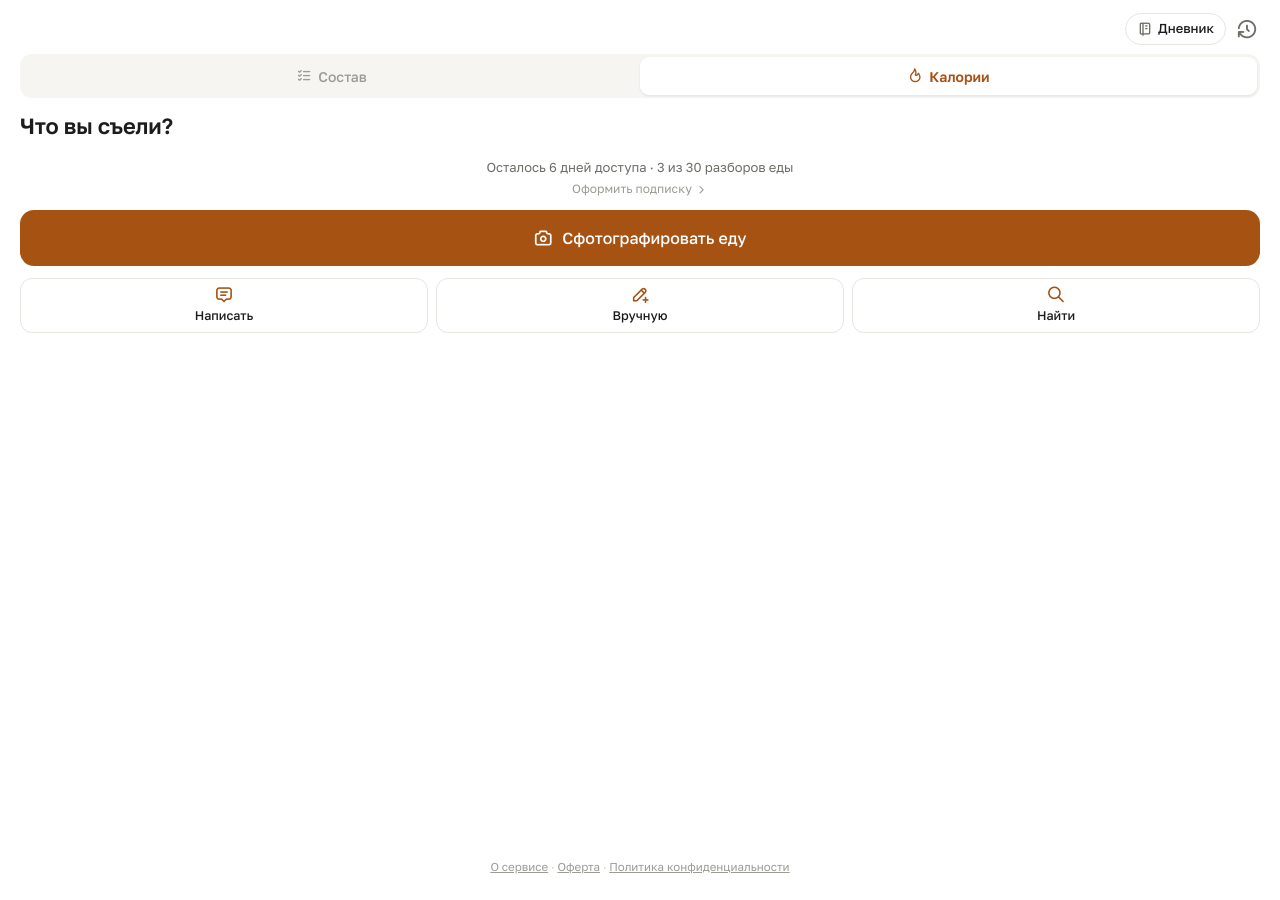
Test: остаток проверок на главном › на первом показе главного лишнего запроса /api/me нет — профиль пришёл с /auth
Click the button "Состав" at [332, 76], box [23,57,640,95]
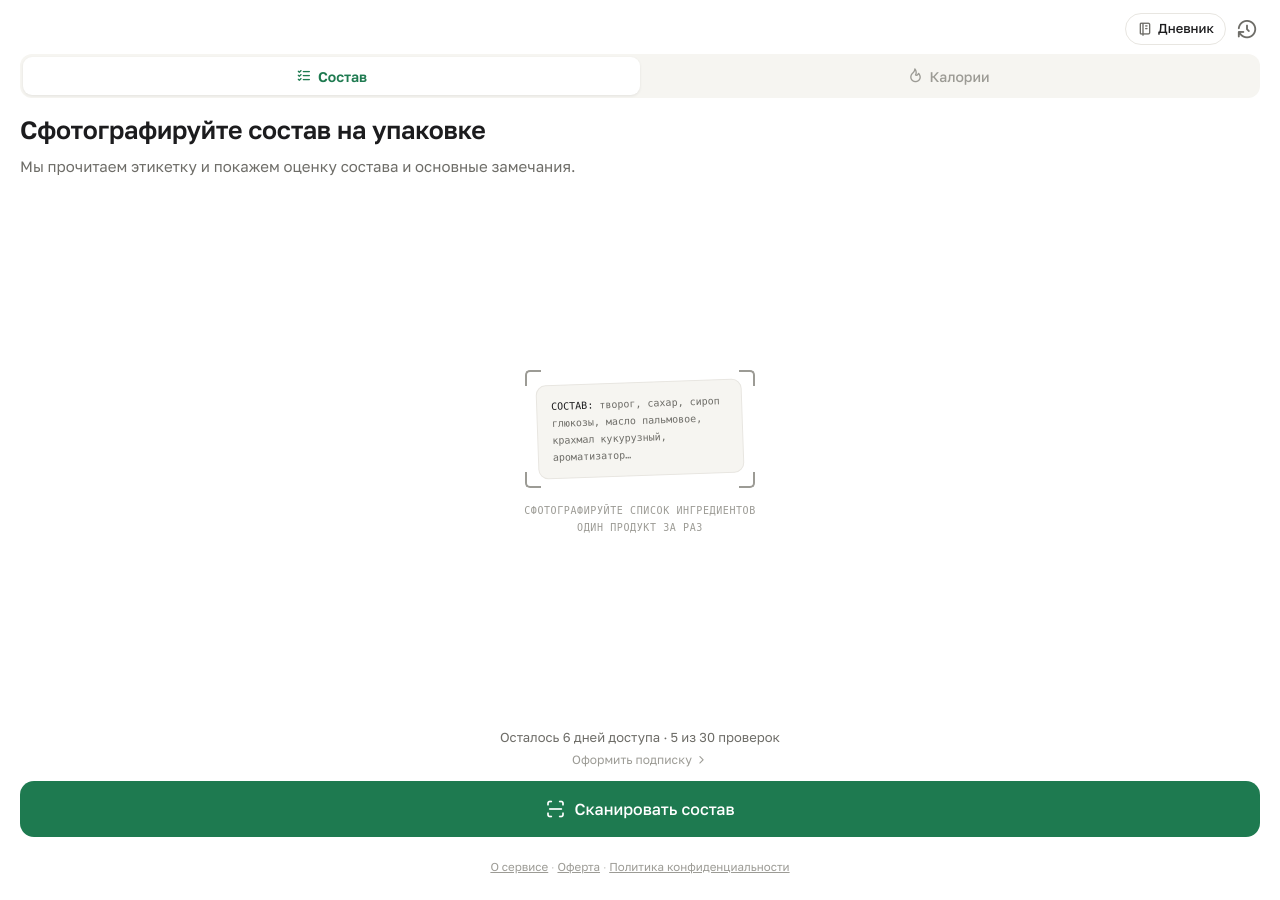
expect the text "Осталось 6 дней доступа · 5 из 30 проверок" is shown: met, box [500,728,780,748]
